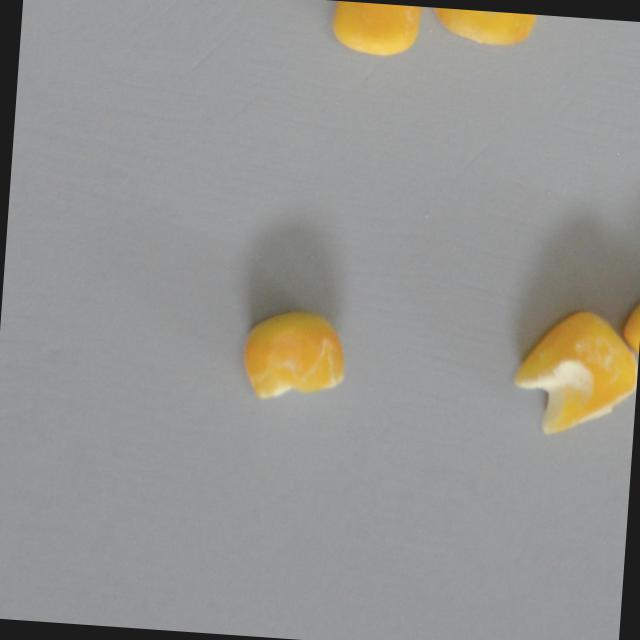no_canjicado: (329, 0, 422, 58), (428, 7, 541, 48), (619, 275, 640, 374)
pelicula: (506, 303, 640, 440), (237, 306, 351, 402)
